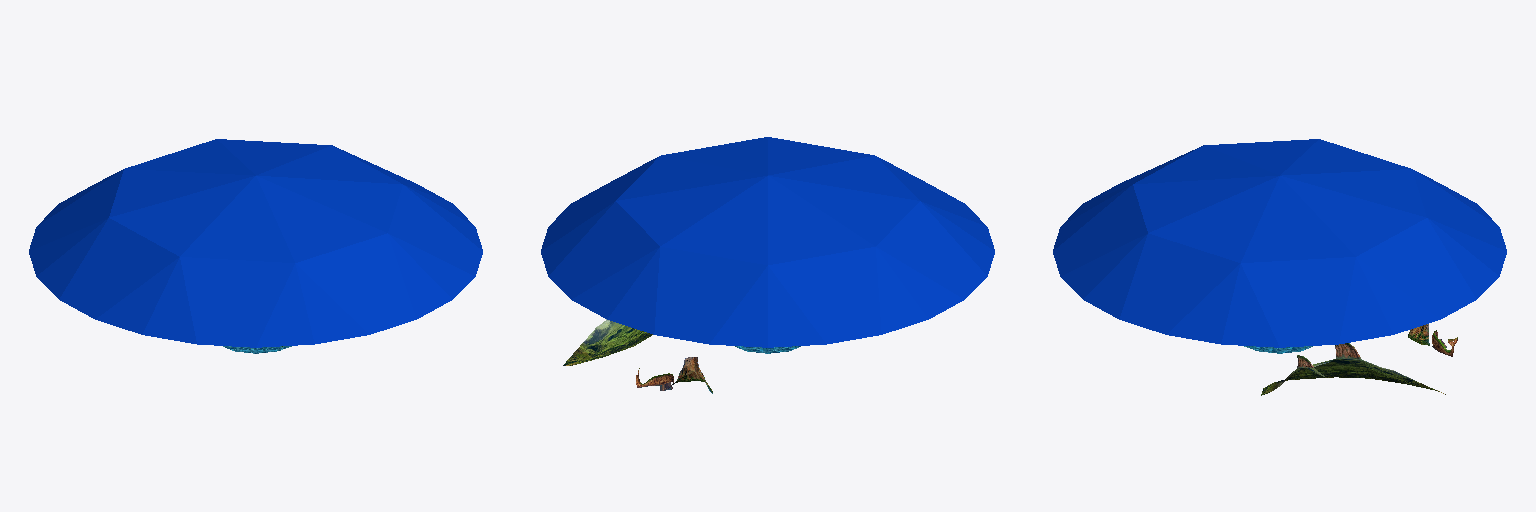
3 views of the same model, side by side, from view 1: azimuth 30°, elevation 25°; view 2: azimuth 150°, elevation 25°; view 3: azimuth 270°, elevation 25° (orthographic).
Size of the model in its own units: 93295 by 36393 by 93295.
22 materials, 22 textured.